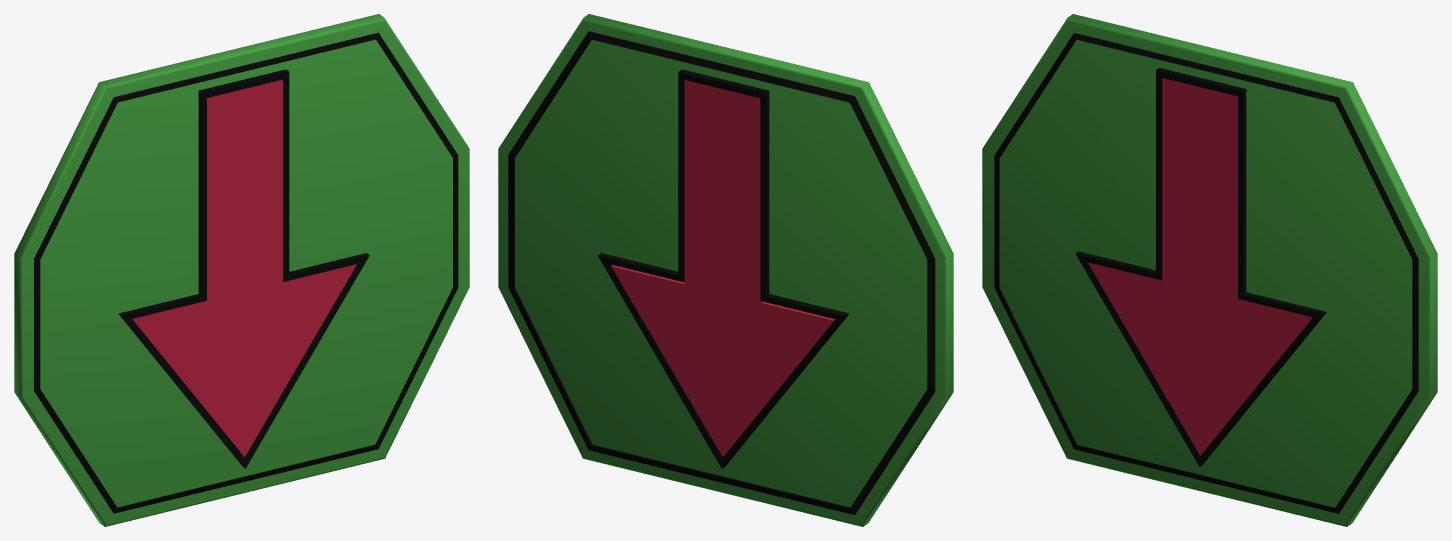
The model's file is Hexagon_DownArrow.fbx.
3 renders of one model, left to right at view 1: azimuth 30°, elevation 25°; view 2: azimuth 150°, elevation 25°; view 3: azimuth 330°, elevation 25°, orthographic.
Parts seen in each view (by area): view 1: outer_HexagonDown; view 2: outer_HexagonDown; view 3: outer_HexagonDown.
Boxes of the visible parts, box(x1,y1,x2,y2) form: outer_HexagonDown: box(14, 14, 469, 526); outer_HexagonDown: box(498, 14, 953, 526); outer_HexagonDown: box(982, 14, 1437, 526).
Bounding box in the file's own units: 151 × 142 × 8.41.
Materials: 4 (4 with a texture image).
